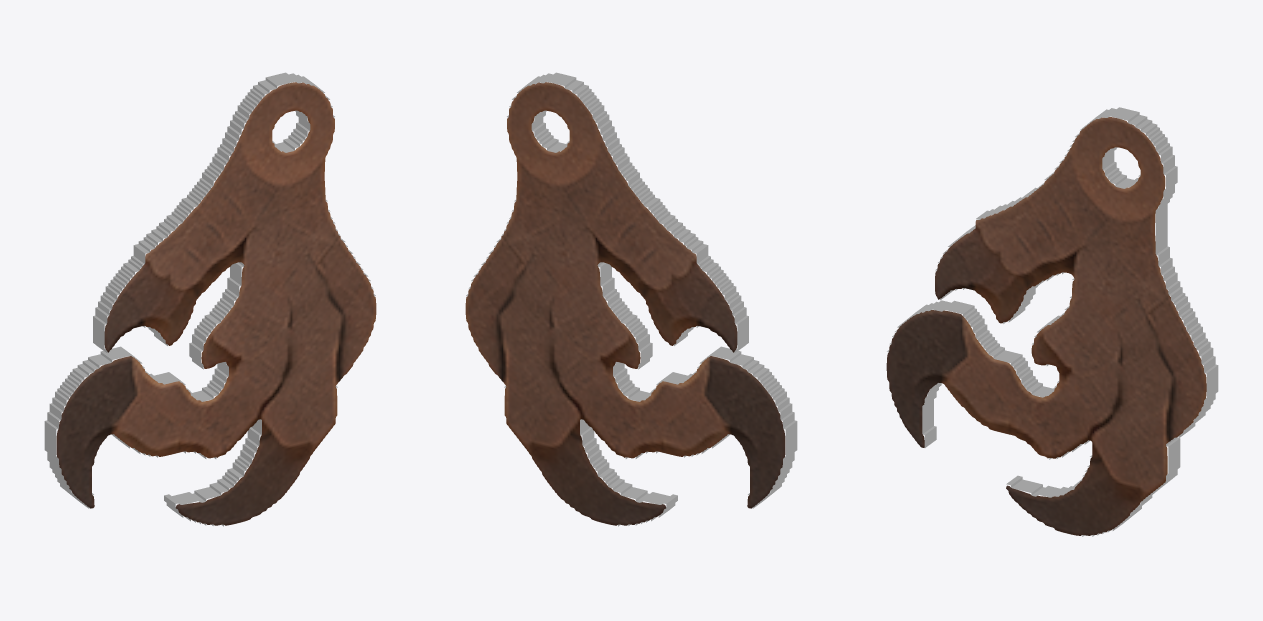
The model's file is ClawRight.glb.
The picture shows the model from 3 angles, left to right: view 1: azimuth 30°, elevation 25°; view 2: azimuth 150°, elevation 25°; view 3: azimuth 330°, elevation 25°; orthographic projection.
Visible parts, largest first — view 1: PaperVolume; view 2: PaperVolume; view 3: PaperVolume.
Part boxes in pixels (x1=…): PaperVolume: x1=44, y1=72, x2=376, y2=526; PaperVolume: x1=465, y1=72, x2=797, y2=526; PaperVolume: x1=886, y1=107, x2=1218, y2=536.
Bounding box in the file's own units: 1.5 × 1.85 × 0.08.
3 materials, 2 textured.
